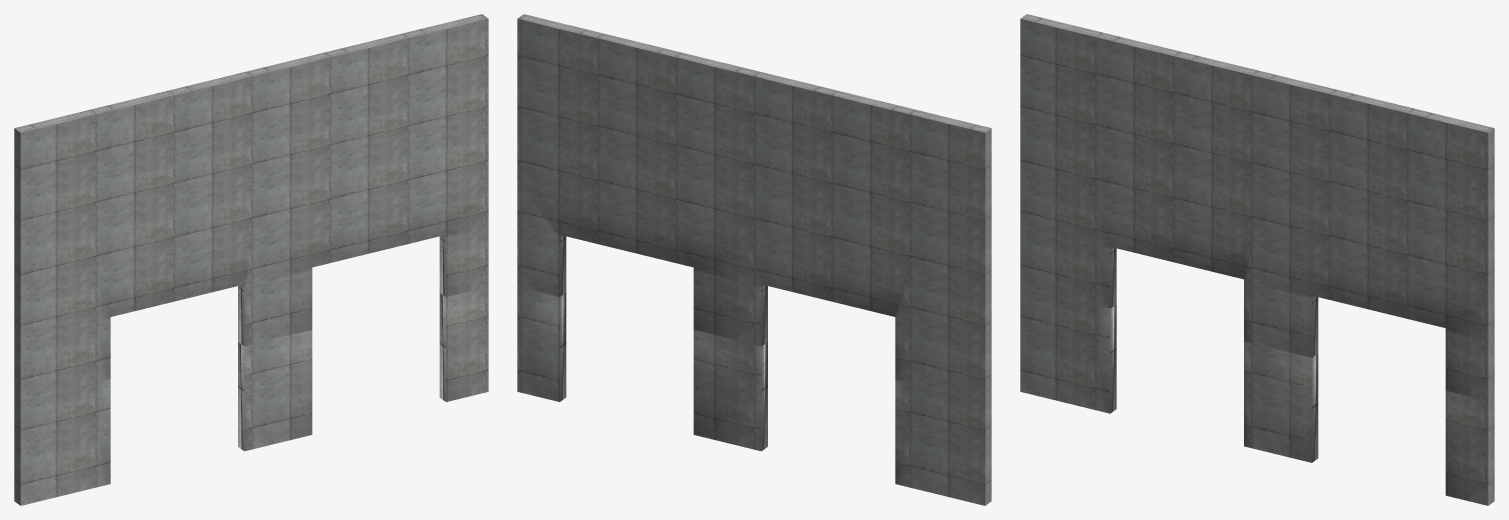
Rendered from doamneAjuta 1.fbx.
The picture shows the model from 3 angles, left to right: view 1: azimuth 30°, elevation 25°; view 2: azimuth 150°, elevation 25°; view 3: azimuth 330°, elevation 25°; orthographic projection.
Parts seen in each view (by area): view 1: LowWall__68_; view 2: LowWall__68_; view 3: LowWall__68_.
Part boxes in pixels (x1,y1,x2,y2): LowWall__68_: (14,14,488,505); LowWall__68_: (517,14,991,505); LowWall__68_: (1020,14,1494,505).
Size of the model in its own units: 4200 by 3200 by 100.
Materials: 1 (1 with a texture image).
